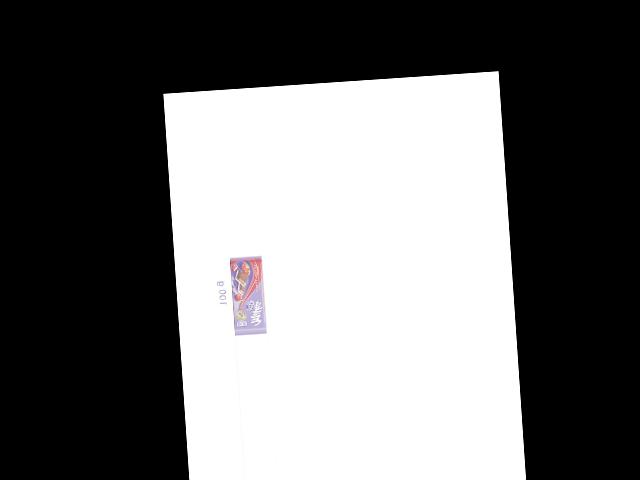chocolate: (225, 255, 267, 335)
